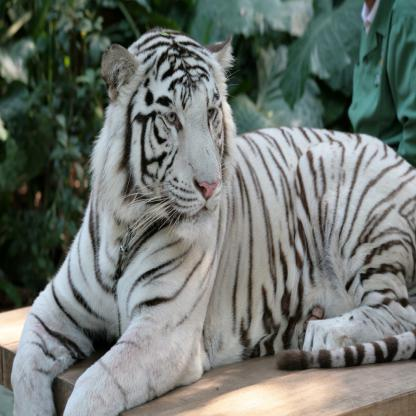tiger: (97, 21, 247, 245)
